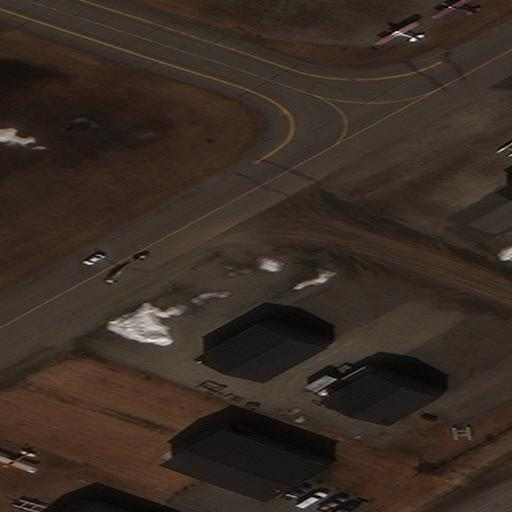Small Civil Transport: (372, 21, 420, 44), (431, 0, 477, 17), (0, 452, 32, 473)
